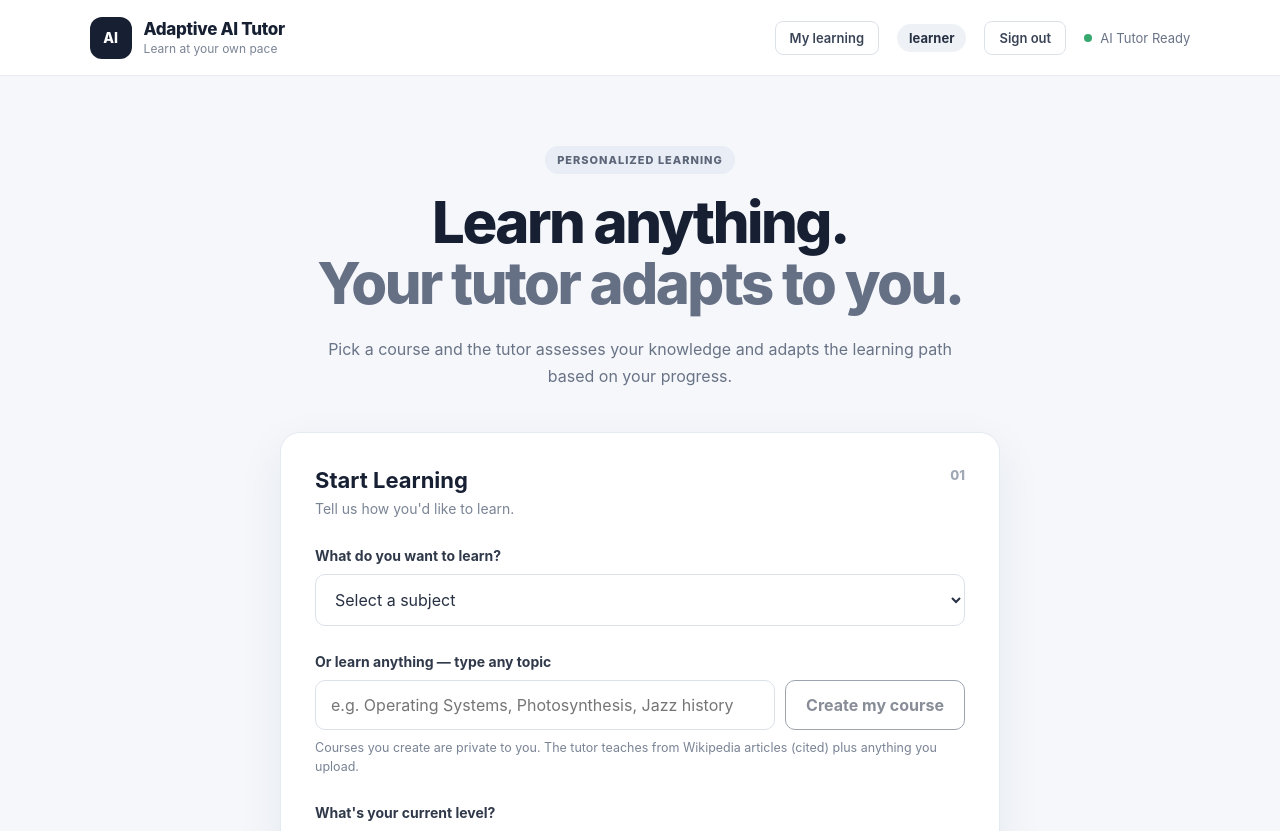
Scenario: App › tells the student when a lesson is shown straight from the material
Select "Computer Networks" in the dropdown labelled "What do you want to learn?": (640, 600) [315,574,965,626]
(page scrolled)
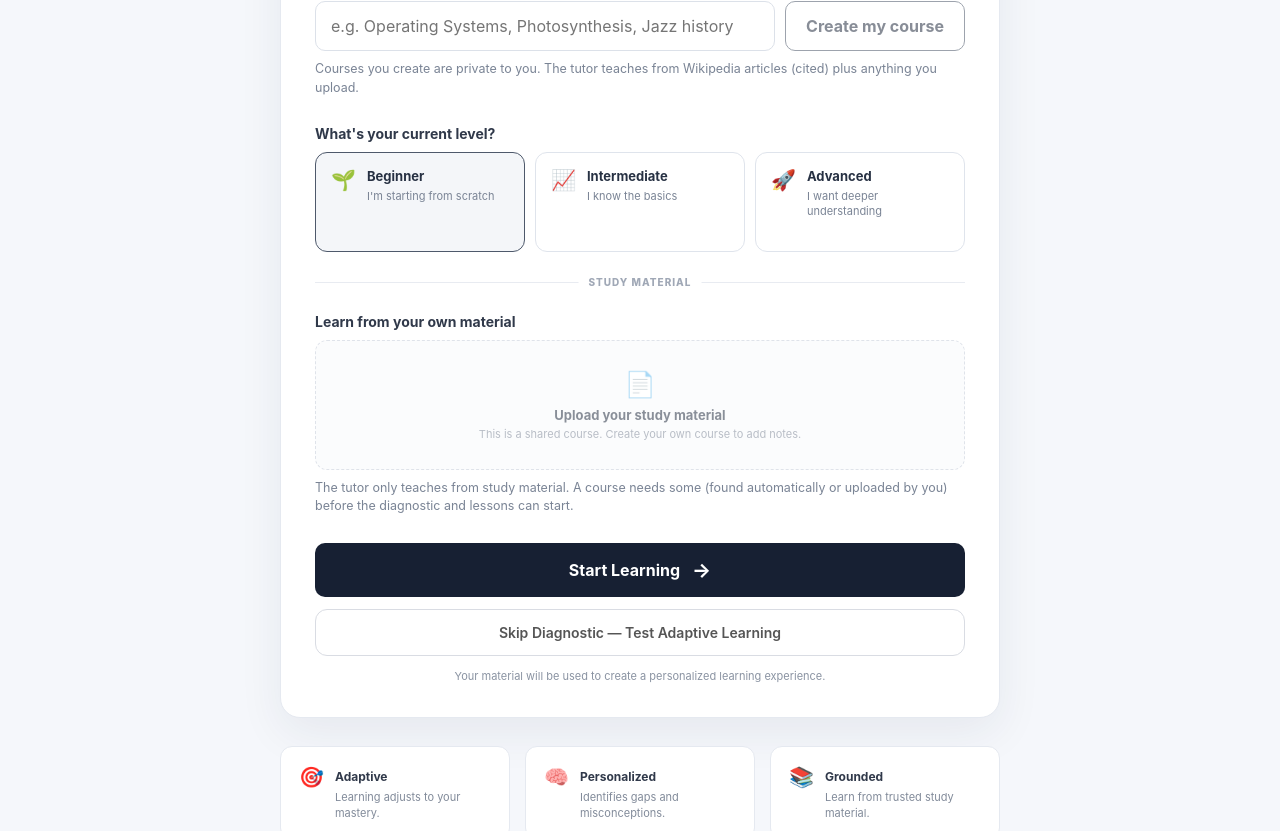
Click the button "Skip Diagnostic — Test Adaptive Learning": (640, 633) [315,609,965,656]
(page scrolled)
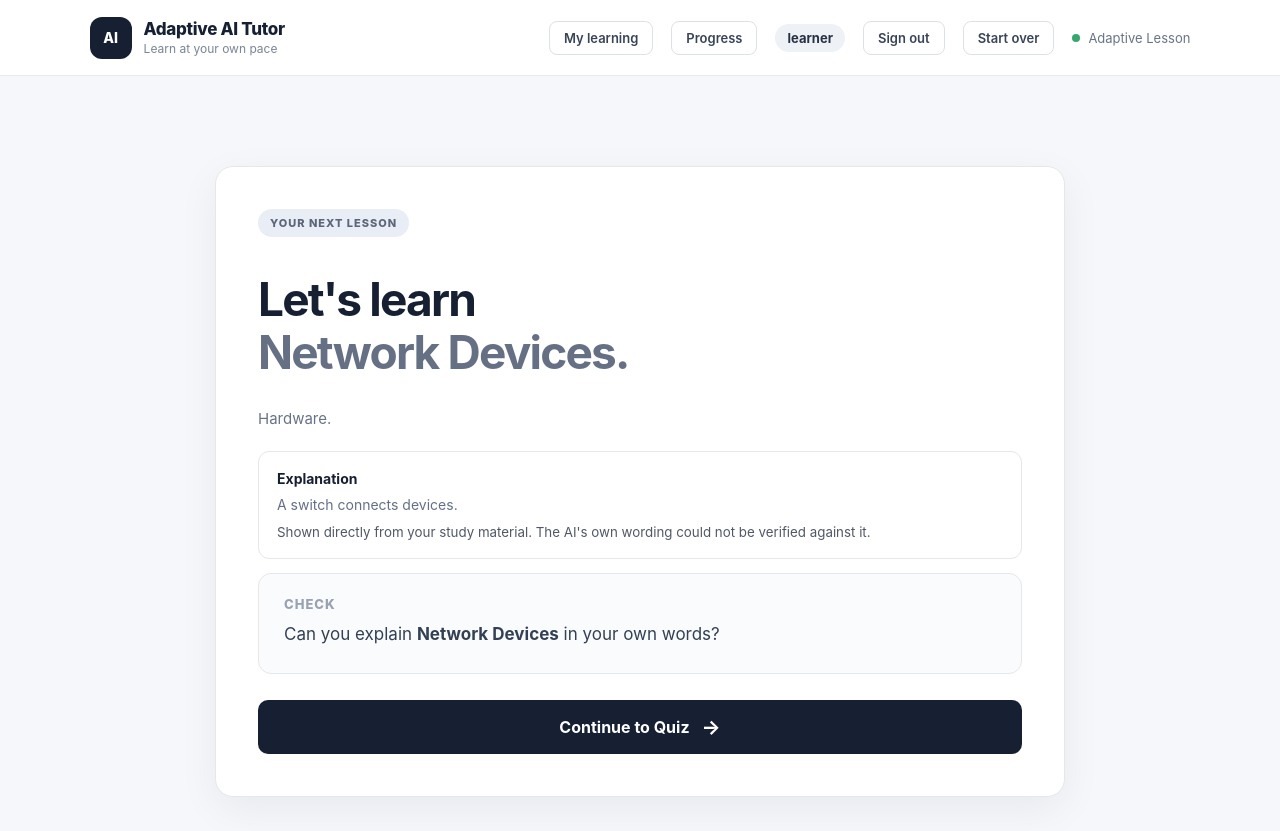
Now the text "A switch connects devices." is shown, box [277,496,458,513]
Now the text "Shown directly from your study material" is shown, box [277,524,871,540]
